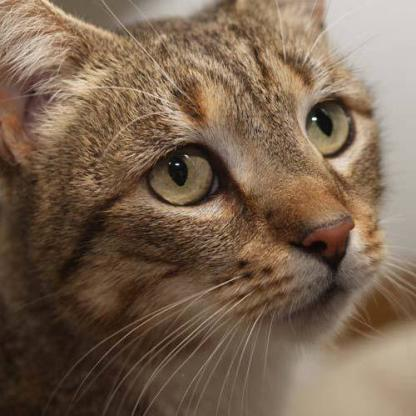cat: (25, 0, 391, 362)
